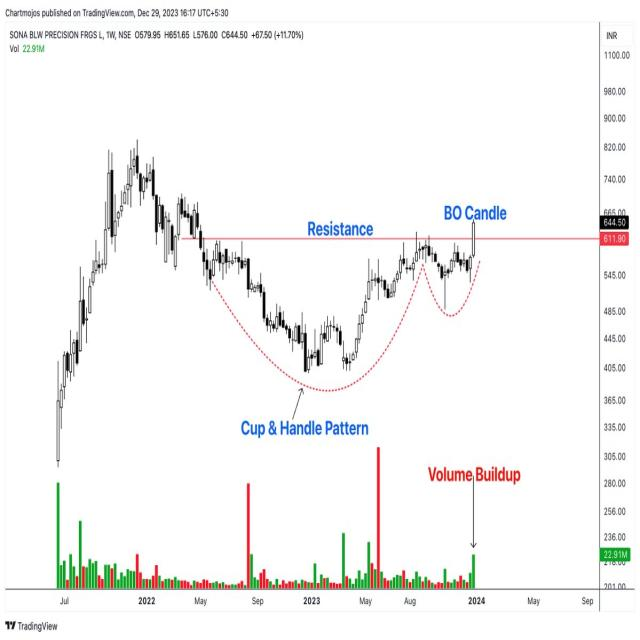Cup-and-handle: (205, 243, 493, 390)
